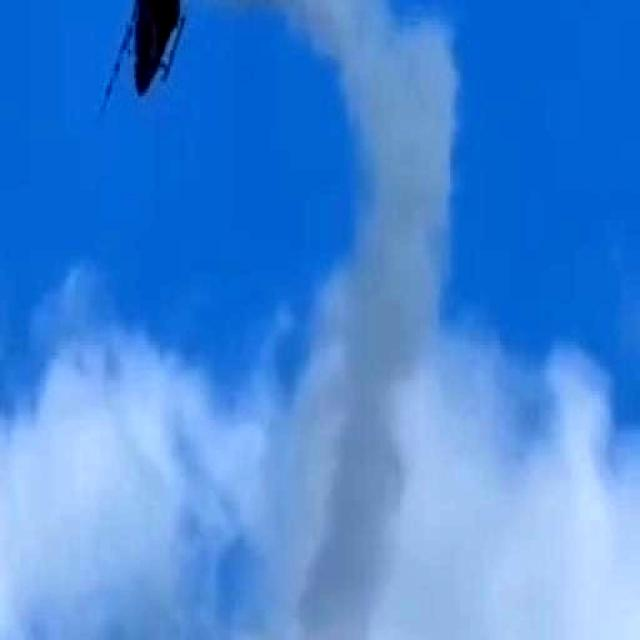drone: (95, 0, 222, 106)
